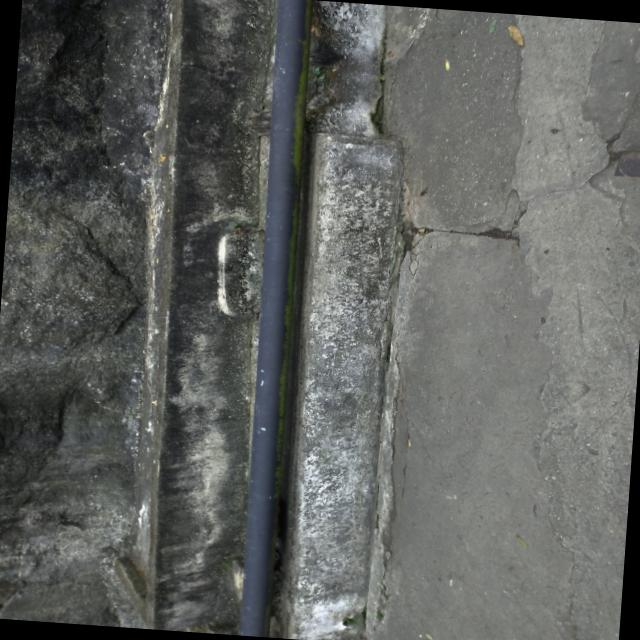gas: (235, 0, 312, 637)
